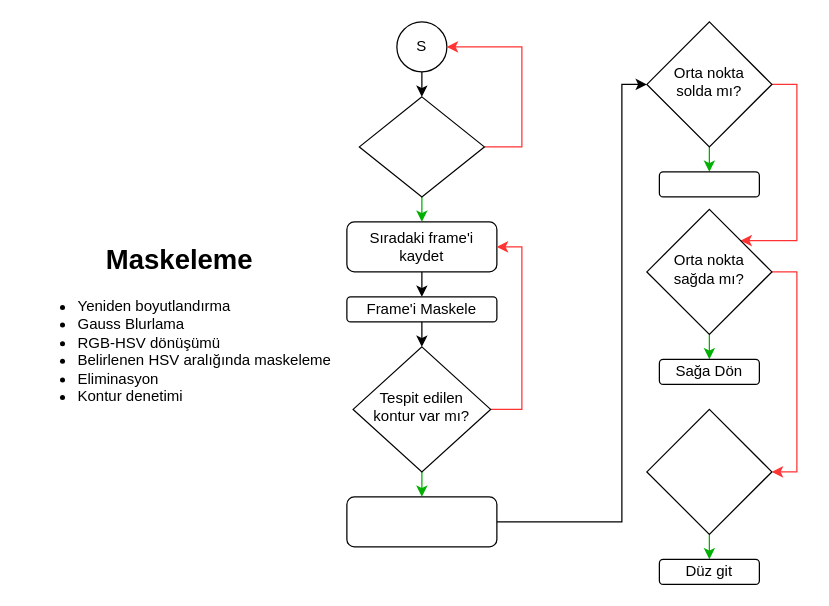
Some shapes in this 829 by 606 pixel diagram are drawn without their labels. The centre of each missing label's shape, as x and y in pixels:
IP Cam Bağlantısı: the point at 421,146
Orta nokta önde mi?: the point at 709,471
Sola Dön: the point at 708,184
Çerçeve yerleşimi ve Orta nokta hesabı: the point at 421,521
